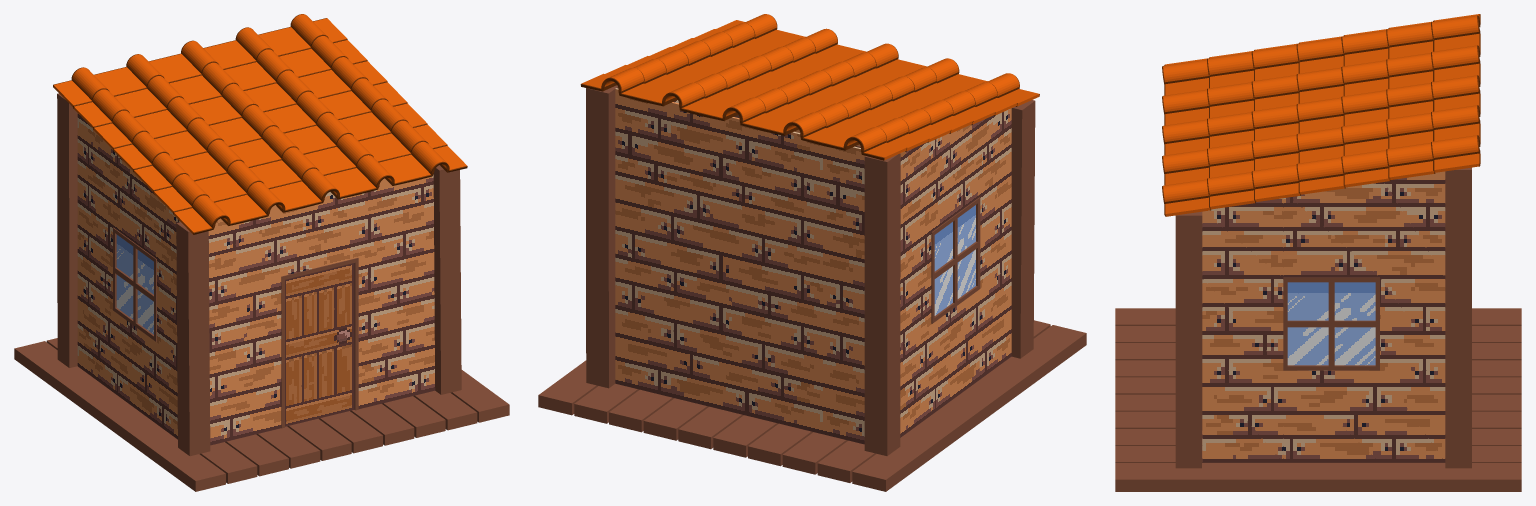
The model's file is Casinha 1.fbx.
3 renders of one model, left to right at view 1: azimuth 30°, elevation 25°; view 2: azimuth 150°, elevation 25°; view 3: azimuth 270°, elevation 25°, orthographic. The views are drawn at different scales.
Parts seen in each view (by area): view 1: Cylinder, Plane.004, Plane.001, Cube, Cube.004, Plane, Cube.002; view 2: Plane.003, Cylinder, Plane.001, Cube.004, Cube; view 3: Plane.005, Cylinder, Cube, Cube.004.
Part boxes in pixels (box(x1,y1,x2,y2)): Cylinder: box(53, 14, 467, 234); Plane.004: box(208, 174, 435, 445); Plane.001: box(77, 113, 180, 439); Cube: box(14, 338, 509, 491); Cube.004: box(57, 93, 461, 456); Plane: box(285, 263, 354, 426); Cube.002: box(281, 258, 358, 428); Plane.003: box(615, 88, 865, 444); Cylinder: box(580, 14, 1039, 160); Plane.001: box(900, 108, 1011, 437); Cube.004: box(586, 85, 1035, 455); Cube: box(538, 320, 1086, 491); Plane.005: box(1202, 171, 1445, 462); Cylinder: box(1162, 14, 1480, 216); Cube: box(1115, 308, 1521, 491); Cube.004: box(1175, 167, 1471, 468).
Bounding box in the file's own units: 516 × 463 × 516.
Materials: 9 (6 with a texture image).
